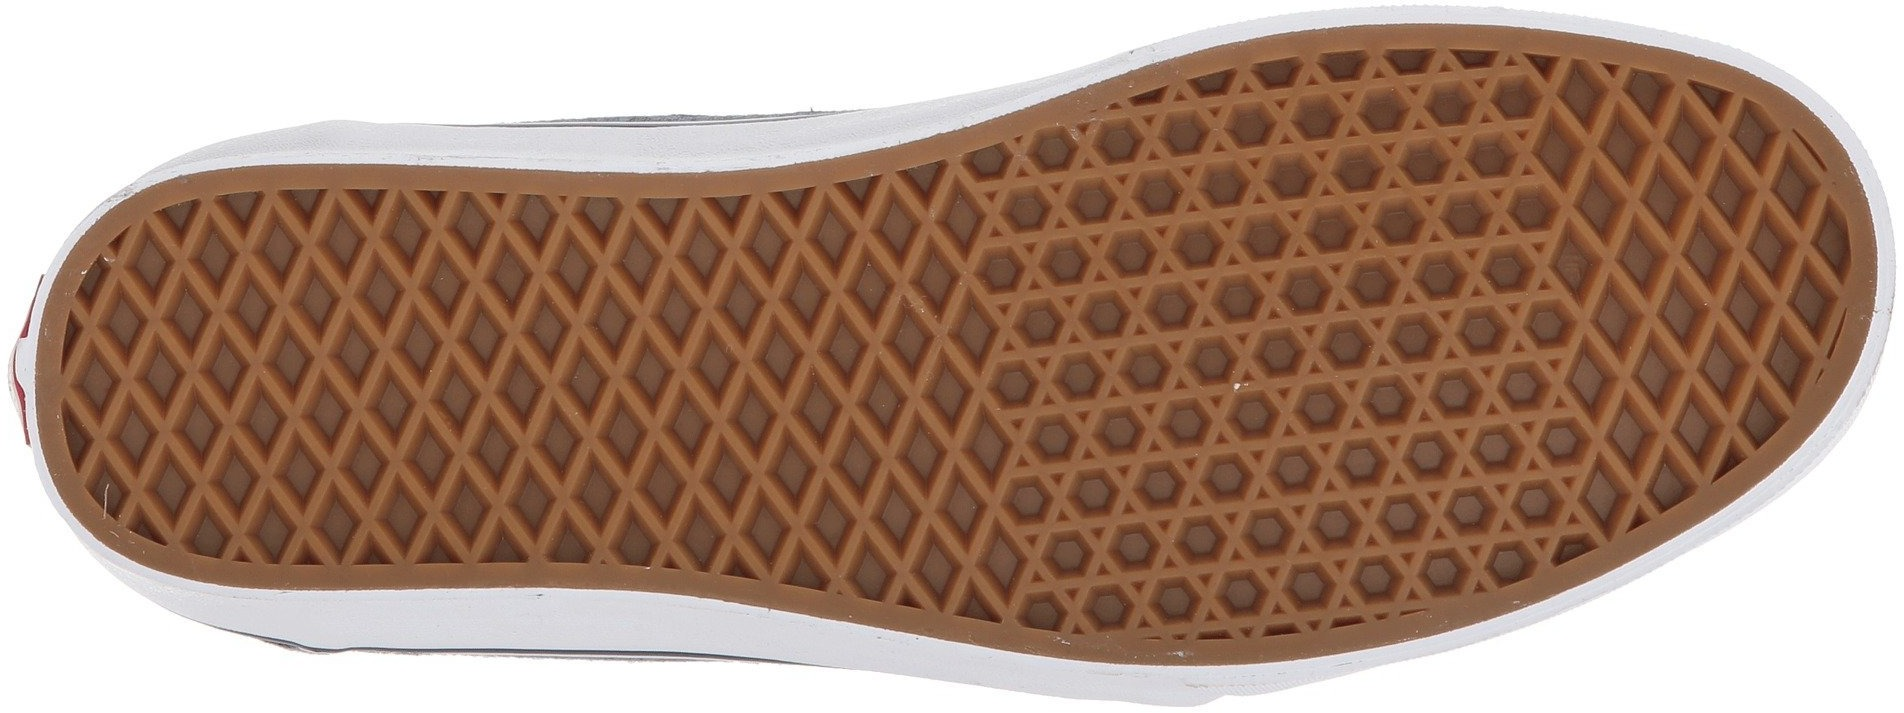polygon: (1276, 328, 1557, 593), (1271, 63, 1553, 321), (990, 126, 1264, 384), (1018, 387, 1264, 622)
quad: (648, 206, 964, 499), (1562, 117, 1823, 406), (376, 200, 644, 476), (83, 272, 372, 519)
triangle: (1276, 328, 1557, 593), (1271, 63, 1553, 321), (990, 126, 1264, 384), (1018, 387, 1264, 622)
